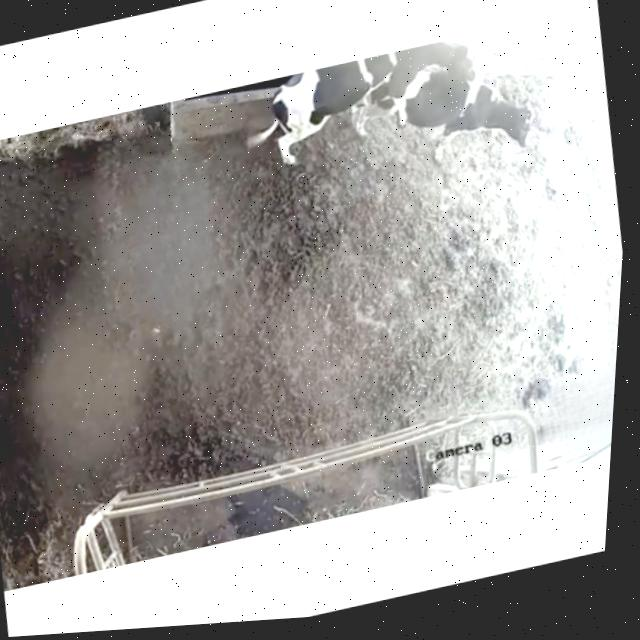ride: (247, 30, 503, 209)
